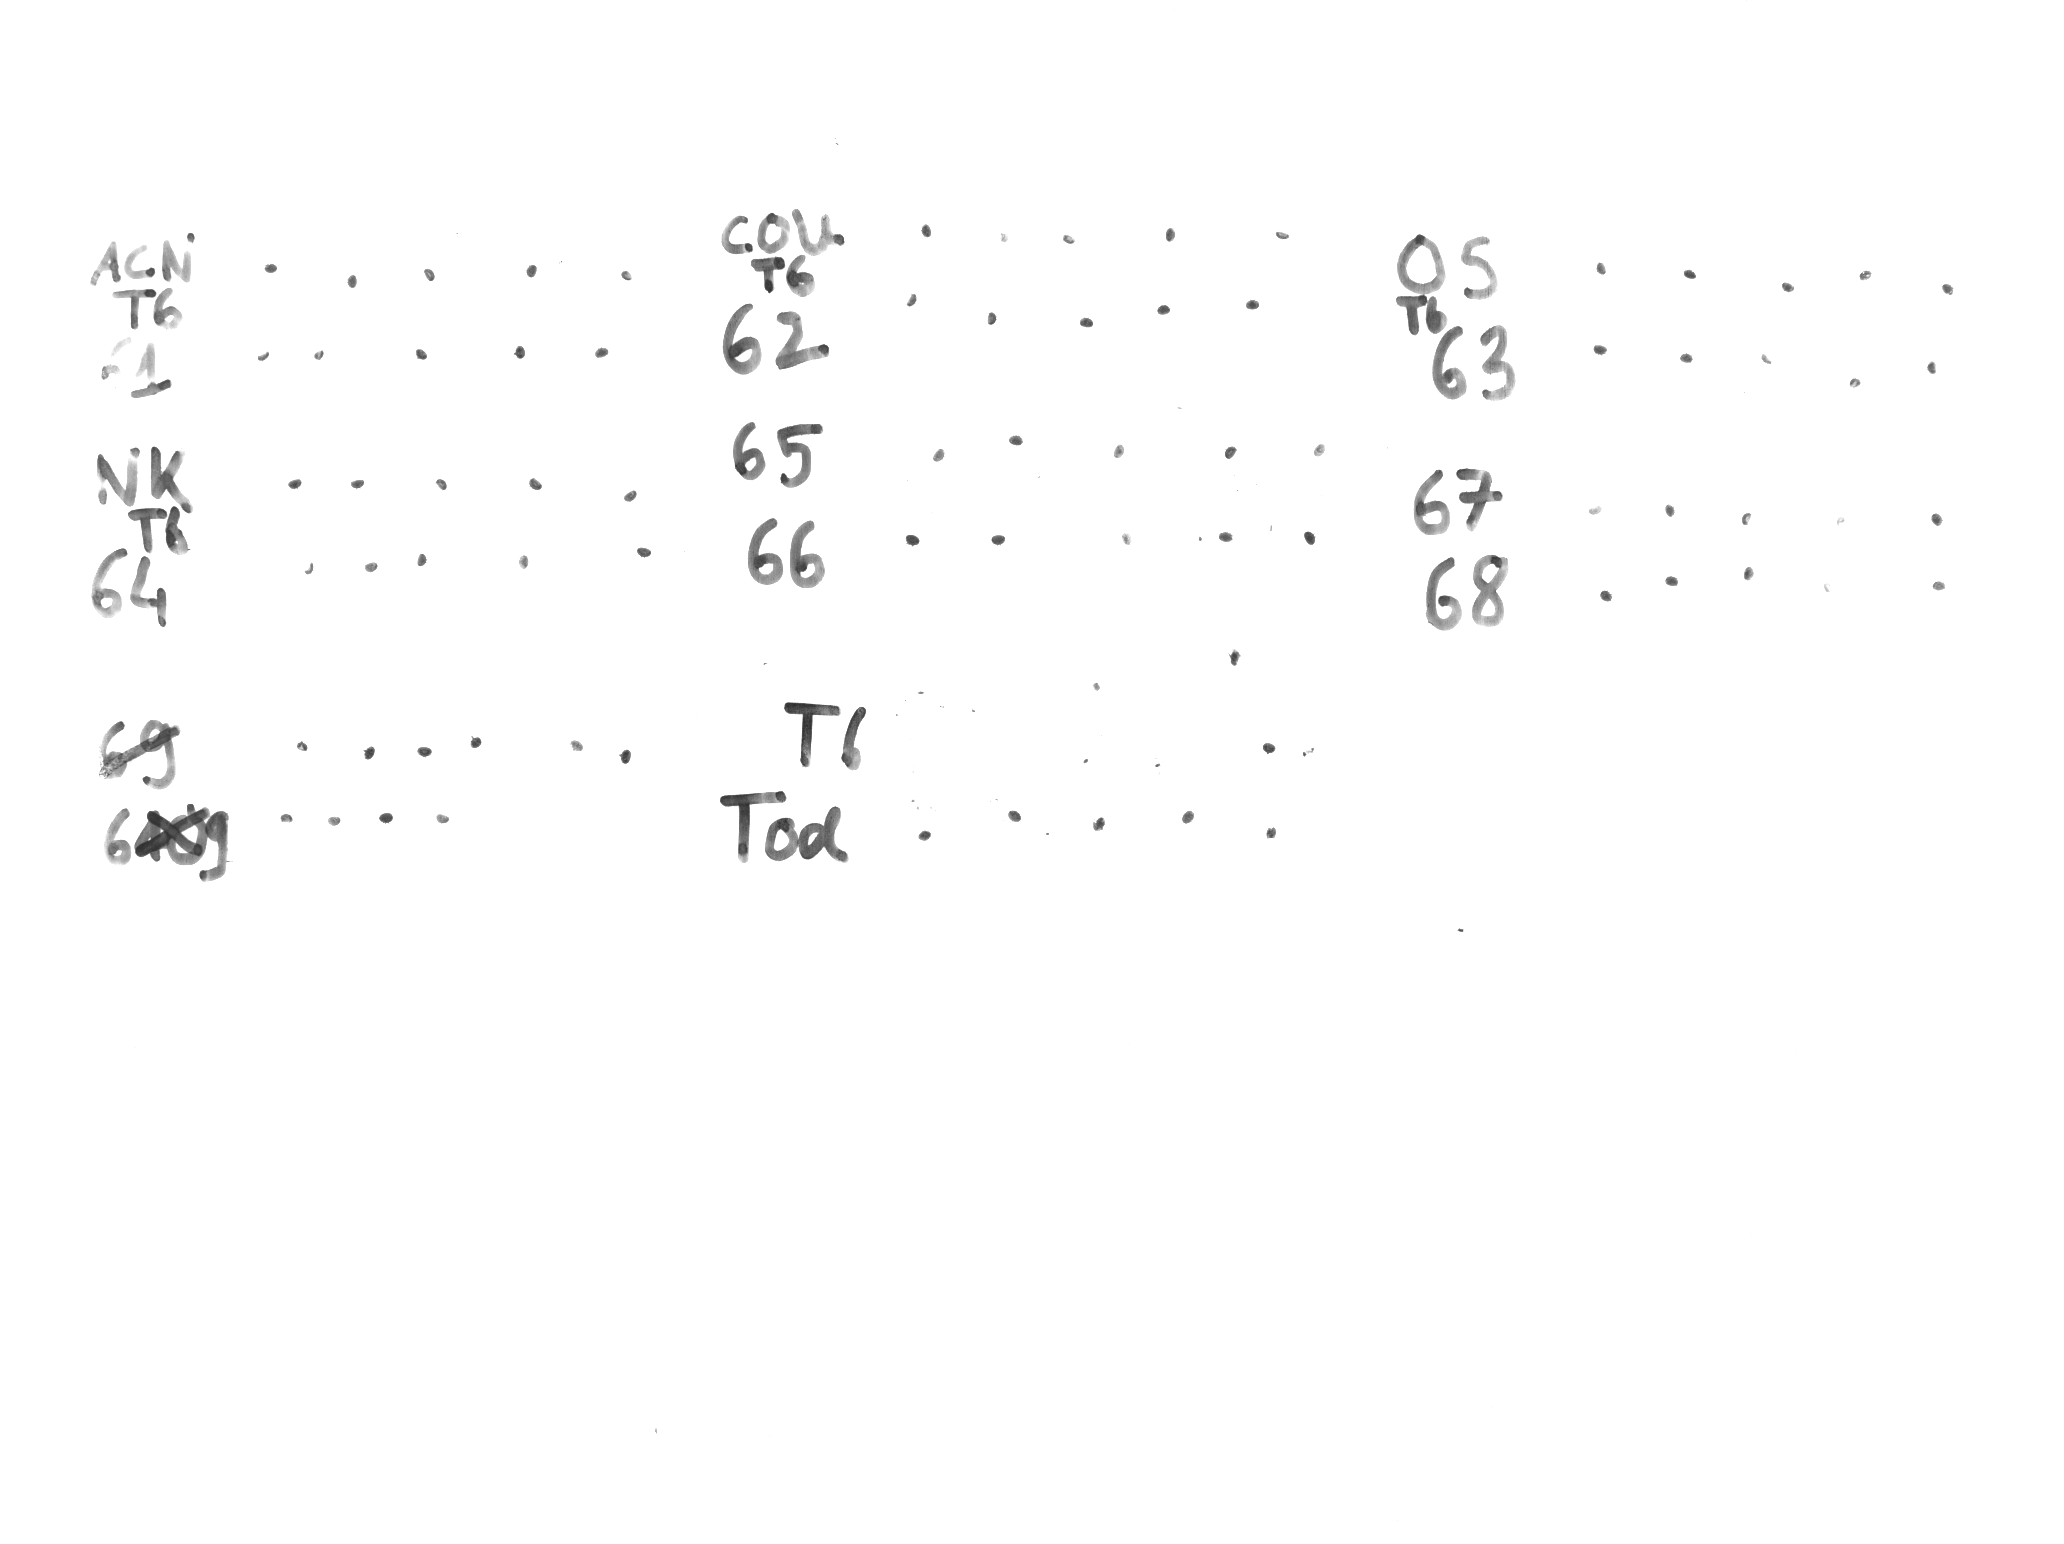varroa: (616, 746, 634, 764), (1300, 530, 1317, 548), (1005, 808, 1023, 824), (420, 268, 436, 284), (527, 475, 543, 491), (621, 487, 637, 503), (1179, 809, 1195, 826), (261, 259, 279, 274), (469, 731, 483, 749), (1261, 740, 1276, 757), (916, 827, 934, 842), (1094, 811, 1106, 834), (522, 263, 538, 277), (511, 345, 527, 360), (287, 477, 303, 491), (905, 292, 919, 308), (1154, 302, 1171, 316), (1245, 297, 1261, 311), (347, 477, 365, 490), (415, 746, 433, 759), (1164, 225, 1177, 243), (903, 534, 921, 547), (989, 534, 1007, 547), (376, 813, 396, 824), (569, 738, 584, 753), (918, 224, 932, 238), (1060, 232, 1075, 247), (931, 448, 945, 462), (1310, 441, 1325, 456), (412, 349, 428, 362), (362, 561, 378, 574), (636, 547, 652, 560), (326, 814, 342, 827), (1216, 530, 1234, 542), (345, 274, 358, 289), (619, 268, 632, 282), (313, 347, 326, 362), (517, 555, 530, 569), (362, 744, 375, 759), (1274, 229, 1289, 242), (984, 311, 997, 326), (1078, 315, 1093, 328), (1683, 268, 1698, 281), (1780, 281, 1795, 294), (1680, 350, 1694, 363), (1738, 511, 1751, 525), (1929, 511, 1942, 525), (1599, 589, 1613, 602), (255, 350, 271, 362), (593, 347, 610, 358), (435, 813, 451, 824), (1008, 435, 1025, 446), (1112, 441, 1124, 457), (1592, 344, 1608, 355), (1743, 564, 1754, 581), (435, 478, 447, 491), (302, 561, 315, 574), (295, 740, 308, 753), (1941, 282, 1954, 295), (1665, 574, 1678, 587), (417, 553, 428, 568), (1224, 444, 1235, 459), (1856, 269, 1871, 281), (1664, 503, 1675, 517), (1931, 579, 1946, 590), (279, 813, 292, 824), (1595, 261, 1607, 274), (1759, 354, 1771, 367), (1926, 362, 1938, 373), (1847, 378, 1860, 388), (1587, 504, 1600, 514), (999, 232, 1008, 243), (1120, 535, 1132, 545)
